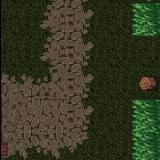Obstacle: (0, 0, 32, 158), (131, 67, 160, 99)
Slow: (132, 99, 160, 160), (132, 2, 160, 36)
